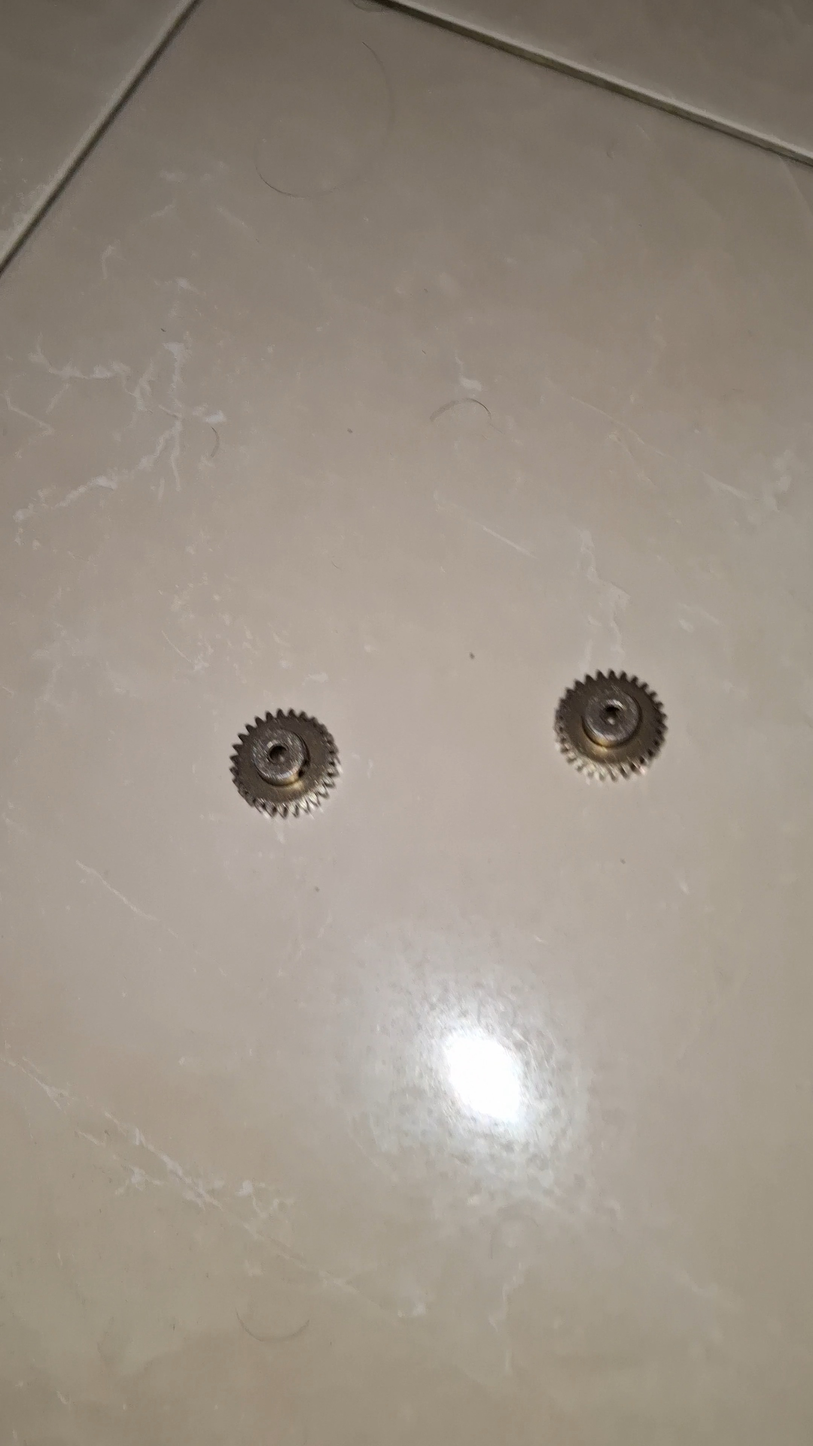spur gear: (548, 662, 658, 769), (226, 703, 333, 808)
